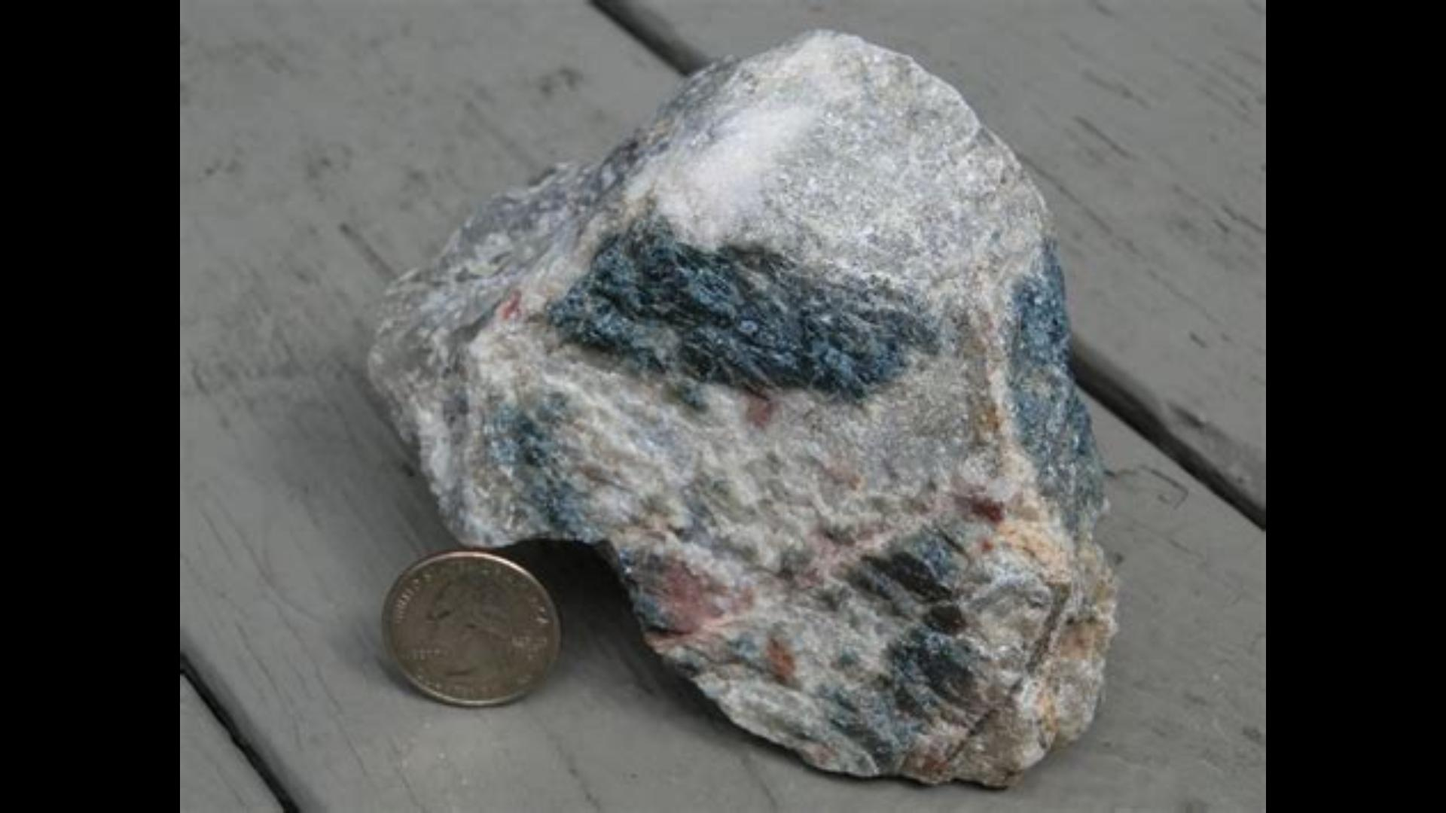rock: (370, 32, 1110, 783)
